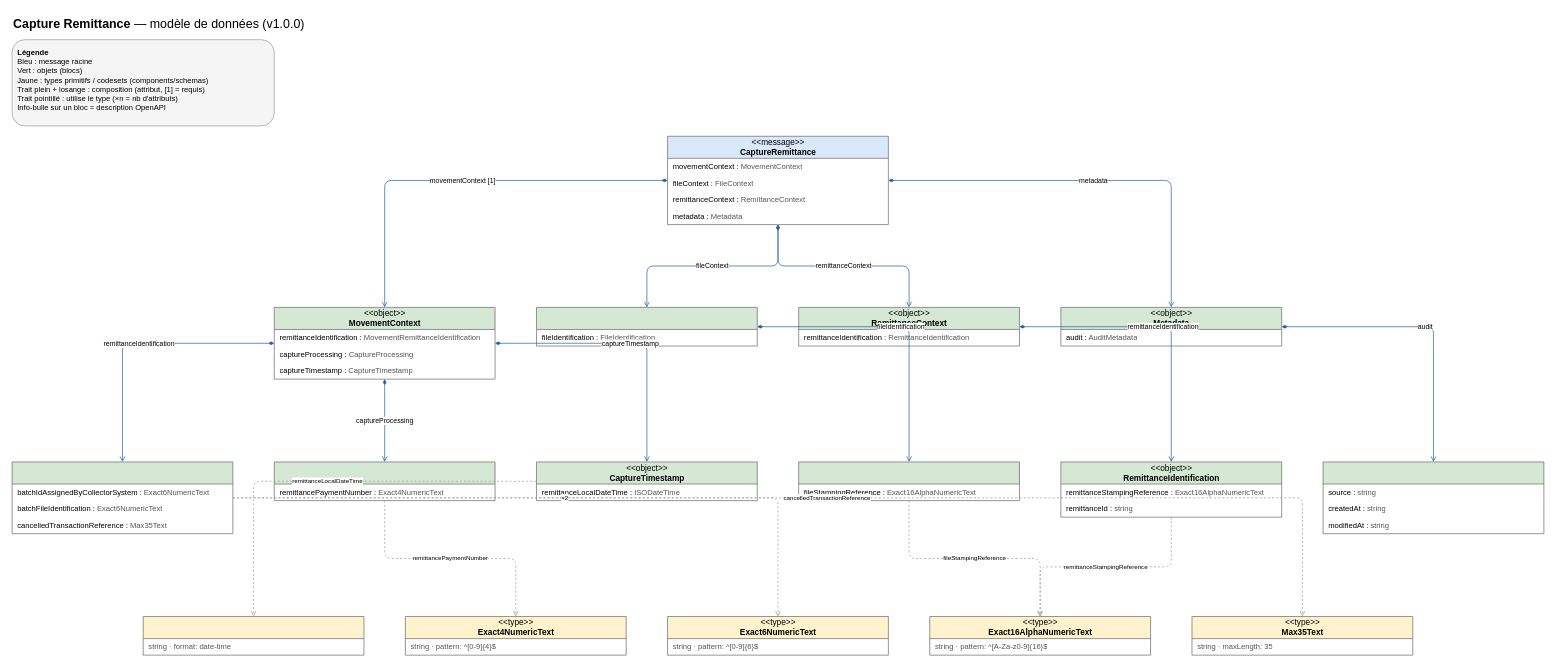
Image size: 1556x667. Some labels were removed from this diagram. Here are the shapes that lost their labels. From the top down, the box of each, then its label:
(536, 307, 757, 346): <<object>> FileContext
(11, 461, 233, 534): <<object>> MovementRemittanceIdentification
(274, 461, 495, 501): <<object>> CaptureProcessing
(798, 461, 1019, 501): <<object>> FileIdentification
(1322, 461, 1544, 534): <<object>> AuditMetadata
(142, 616, 364, 655): <<type>> ISODateTime
